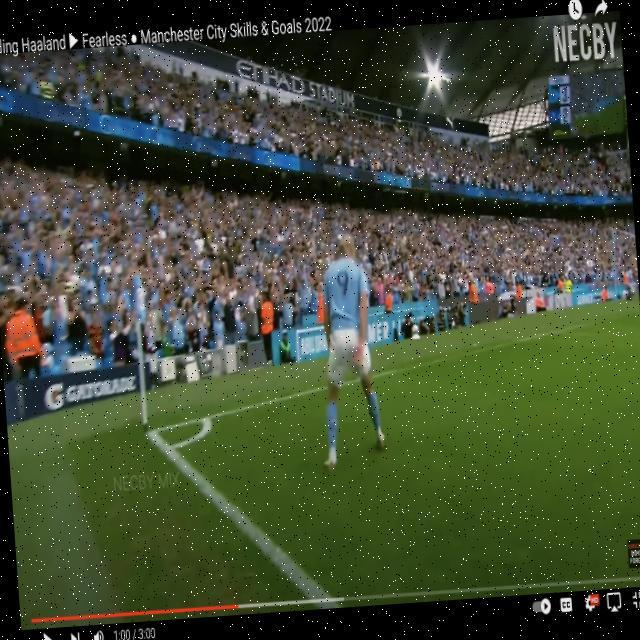Etihad Airways: (236, 54, 304, 101)
